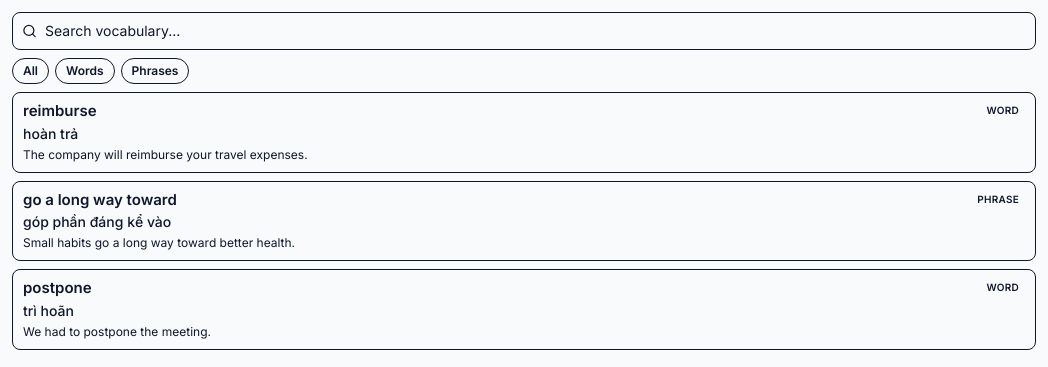
Test case: WordsTab search and filter › clears the query via the clear button
In the field labelled "Search vocabulary...": (524, 31) x1=12 y1=12 x2=1036 y2=50, type "reimburse"
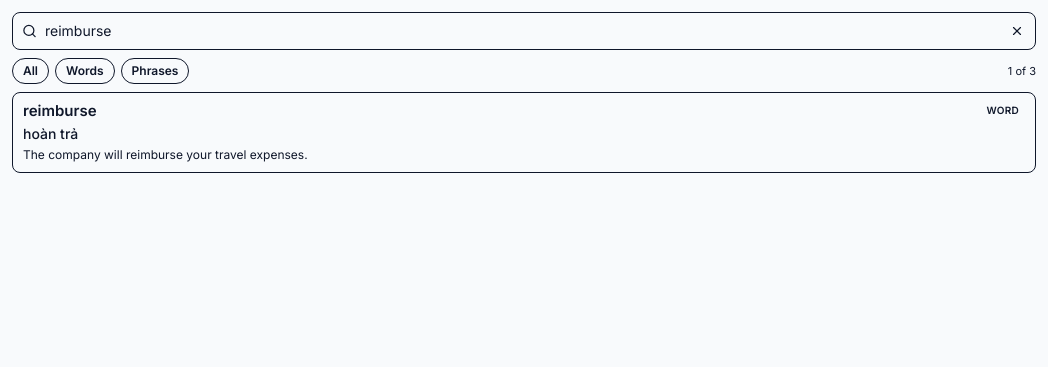
Expected: the button "postpone" is gone
Click the button named "Clear search query": (1017, 31) x1=1006 y1=20 x2=1028 y2=42
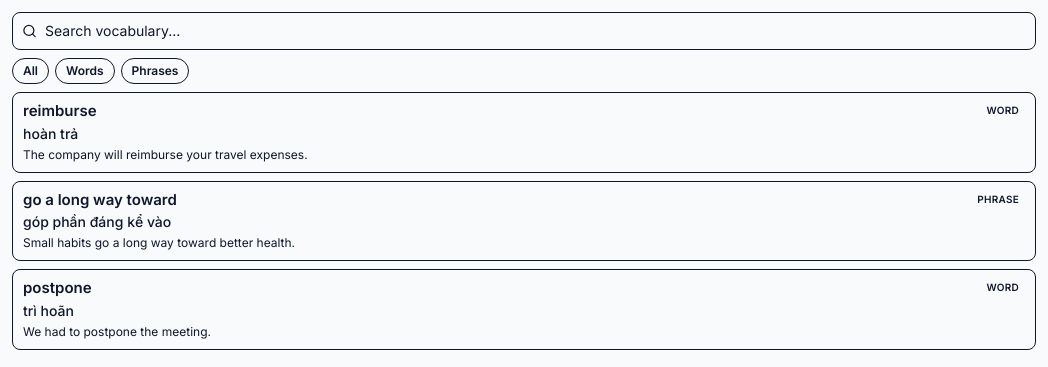
Expected: the field labelled "Search vocabulary..." is empty, x1=12 y1=12 x2=1036 y2=50
Expected: the text "postpone" is shown, x1=23 y1=278 x2=92 y2=299
